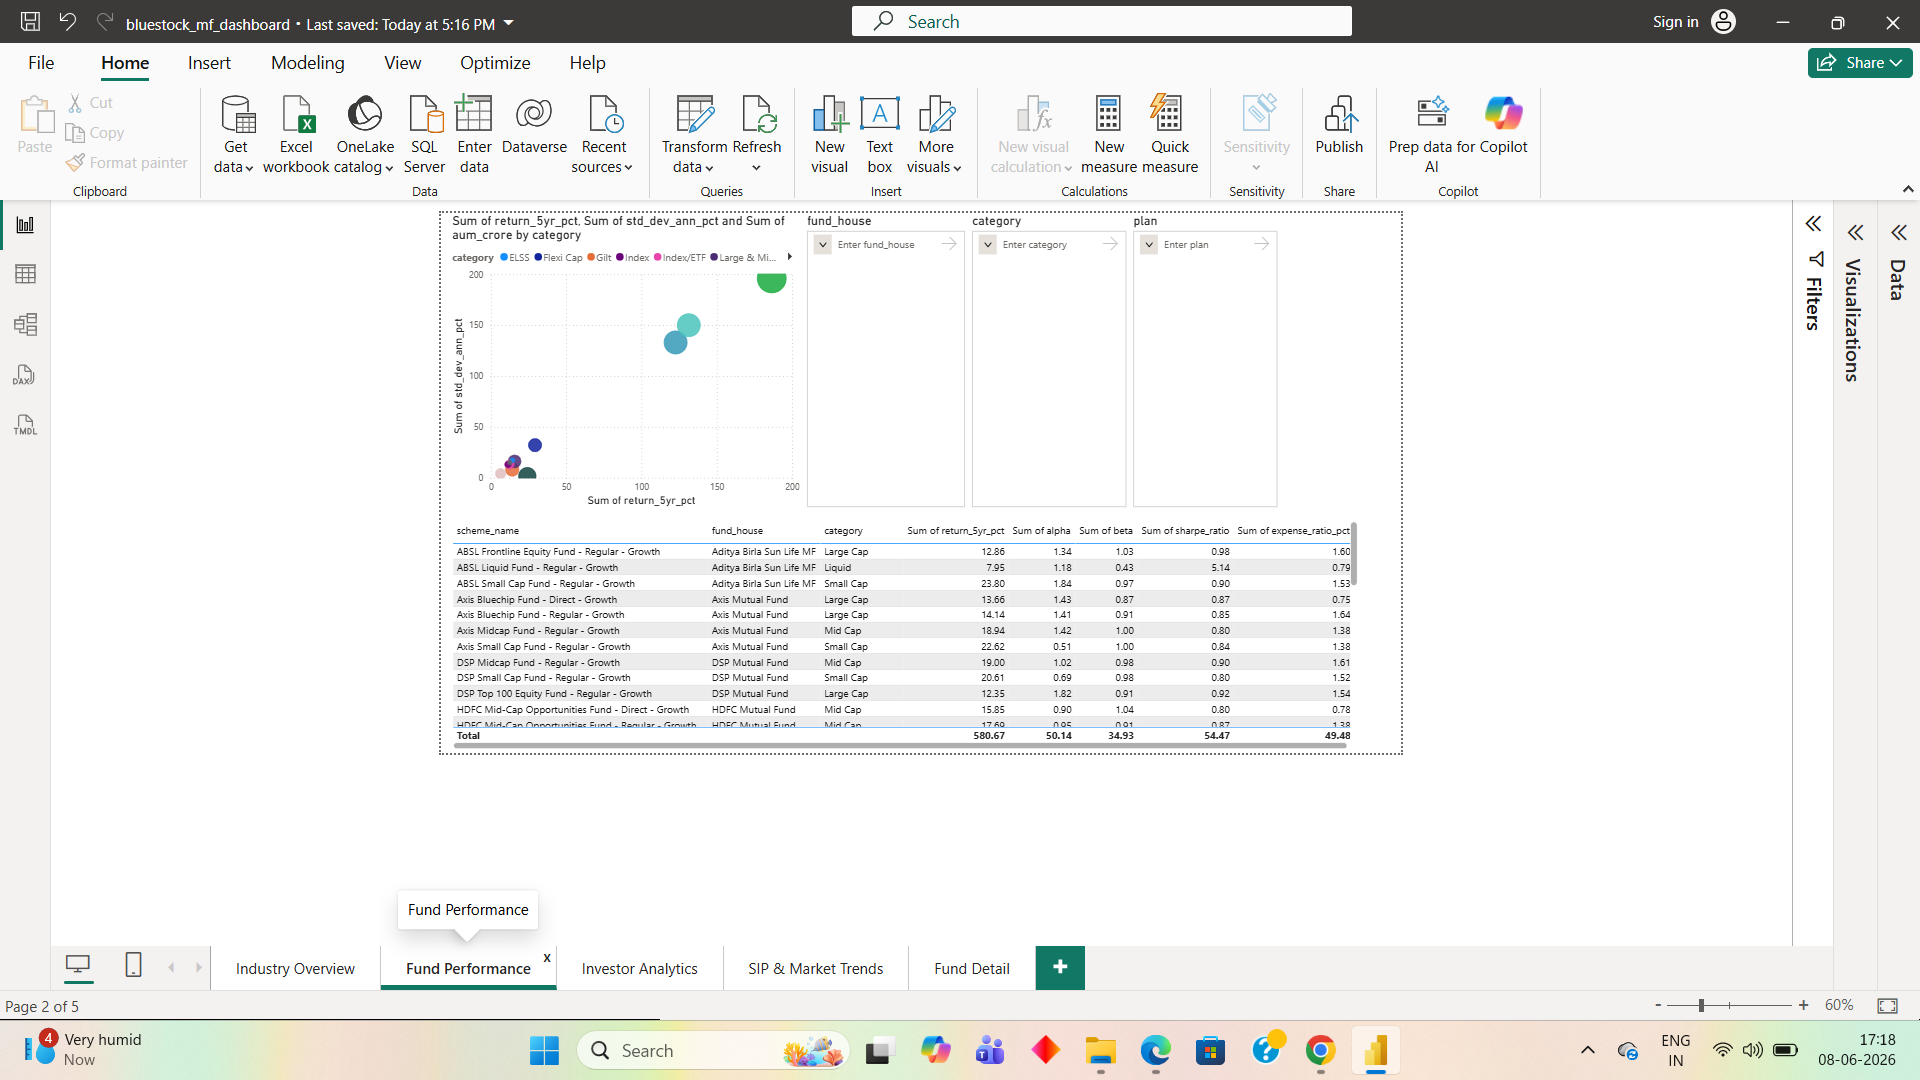

Layout of this report page (visuals, bound fields, positions):
{"tool":"powerbi","page":{"name":"Fund Performance","canvas":[1280,720],"ordinal":1},"visuals":[{"type":"scatterChart","fields":{"X":["Sum(07_scheme_performance_clean.return_5yr_pct)"],"Y":["Sum(07_scheme_performance_clean.std_dev_ann_pct)"],"Size":["Sum(07_scheme_performance_clean.aum_crore)"],"Series":["07_scheme_performance_clean.category"]},"box":[10,0,473.3,396.7],"z":0},{"type":"tableEx","fields":{"Values":["07_scheme_performance_clean.scheme_name","07_scheme_performance_clean.fund_house","07_scheme_performance_clean.category","Sum(07_scheme_performance_clean.return_5yr_pct)","Sum(07_scheme_performance_clean.alpha)","Sum(07_scheme_performance_clean.beta)","Sum(07_scheme_performance_clean.sharpe_ratio)","Sum(07_scheme_performance_clean.expense_ratio_pct)"]},"box":[10,406.7,1216.7,313.3],"z":1000},{"type":"textSlicer","fields":{"Values":["07_scheme_performance_clean.fund_house"]},"box":[483.3,0,220,396.7],"z":2000},{"type":"textSlicer","fields":{"Values":["07_scheme_performance_clean.category"]},"box":[703.3,0,215,396.7],"z":3000},{"type":"textSlicer","fields":{"Values":["07_scheme_performance_clean.plan"]},"box":[918.3,0,201.7,396.7],"z":4000}]}

Visuals, with their boxes on the page's 1280x720 design canvas (x1, y1, x2, y2). These are canvas units, not pixel positions in the 1920x1080 screenshot, which may show the page scaled, cropped or inside an application window:
scatterChart - Sum(07_scheme_performance_clean.return_5yr_pct) x Sum(07_scheme_performance_clean.std_dev_ann_pct): crop(10, 0, 483, 397)
tableEx - 07_scheme_performance_clean.scheme_name x 07_scheme_performance_clean.fund_house: crop(10, 407, 1227, 720)
textSlicer - 07_scheme_performance_clean.fund_house: crop(483, 0, 703, 397)
textSlicer - 07_scheme_performance_clean.category: crop(703, 0, 918, 397)
textSlicer - 07_scheme_performance_clean.plan: crop(918, 0, 1120, 397)
